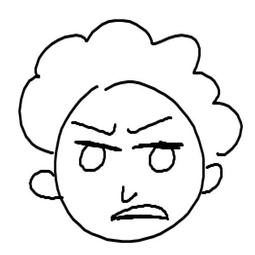ear: (25, 167, 61, 206), (199, 159, 228, 198)
empty_eye: (136, 137, 181, 183), (74, 140, 113, 177)
frowning_eyebrow: (124, 113, 175, 137), (69, 116, 120, 138)
nose: (115, 182, 138, 204)
open_mouth: (106, 201, 171, 226)
